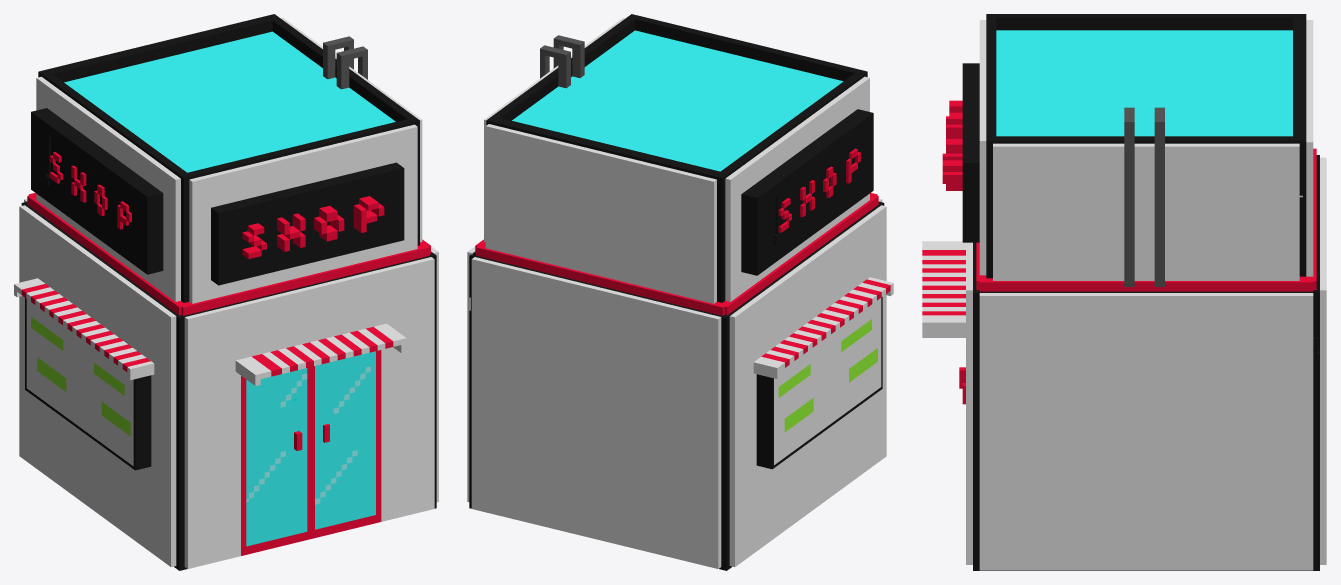
File: clear.obj
The picture shows the model from 3 angles, left to right: view 1: azimuth 30°, elevation 25°; view 2: azimuth 150°, elevation 25°; view 3: azimuth 270°, elevation 25°; orthographic projection. The views are drawn at different scales.
Size of the model in its own units: 11 by 14.7 by 12.
Materials: 1 (1 with a texture image).
